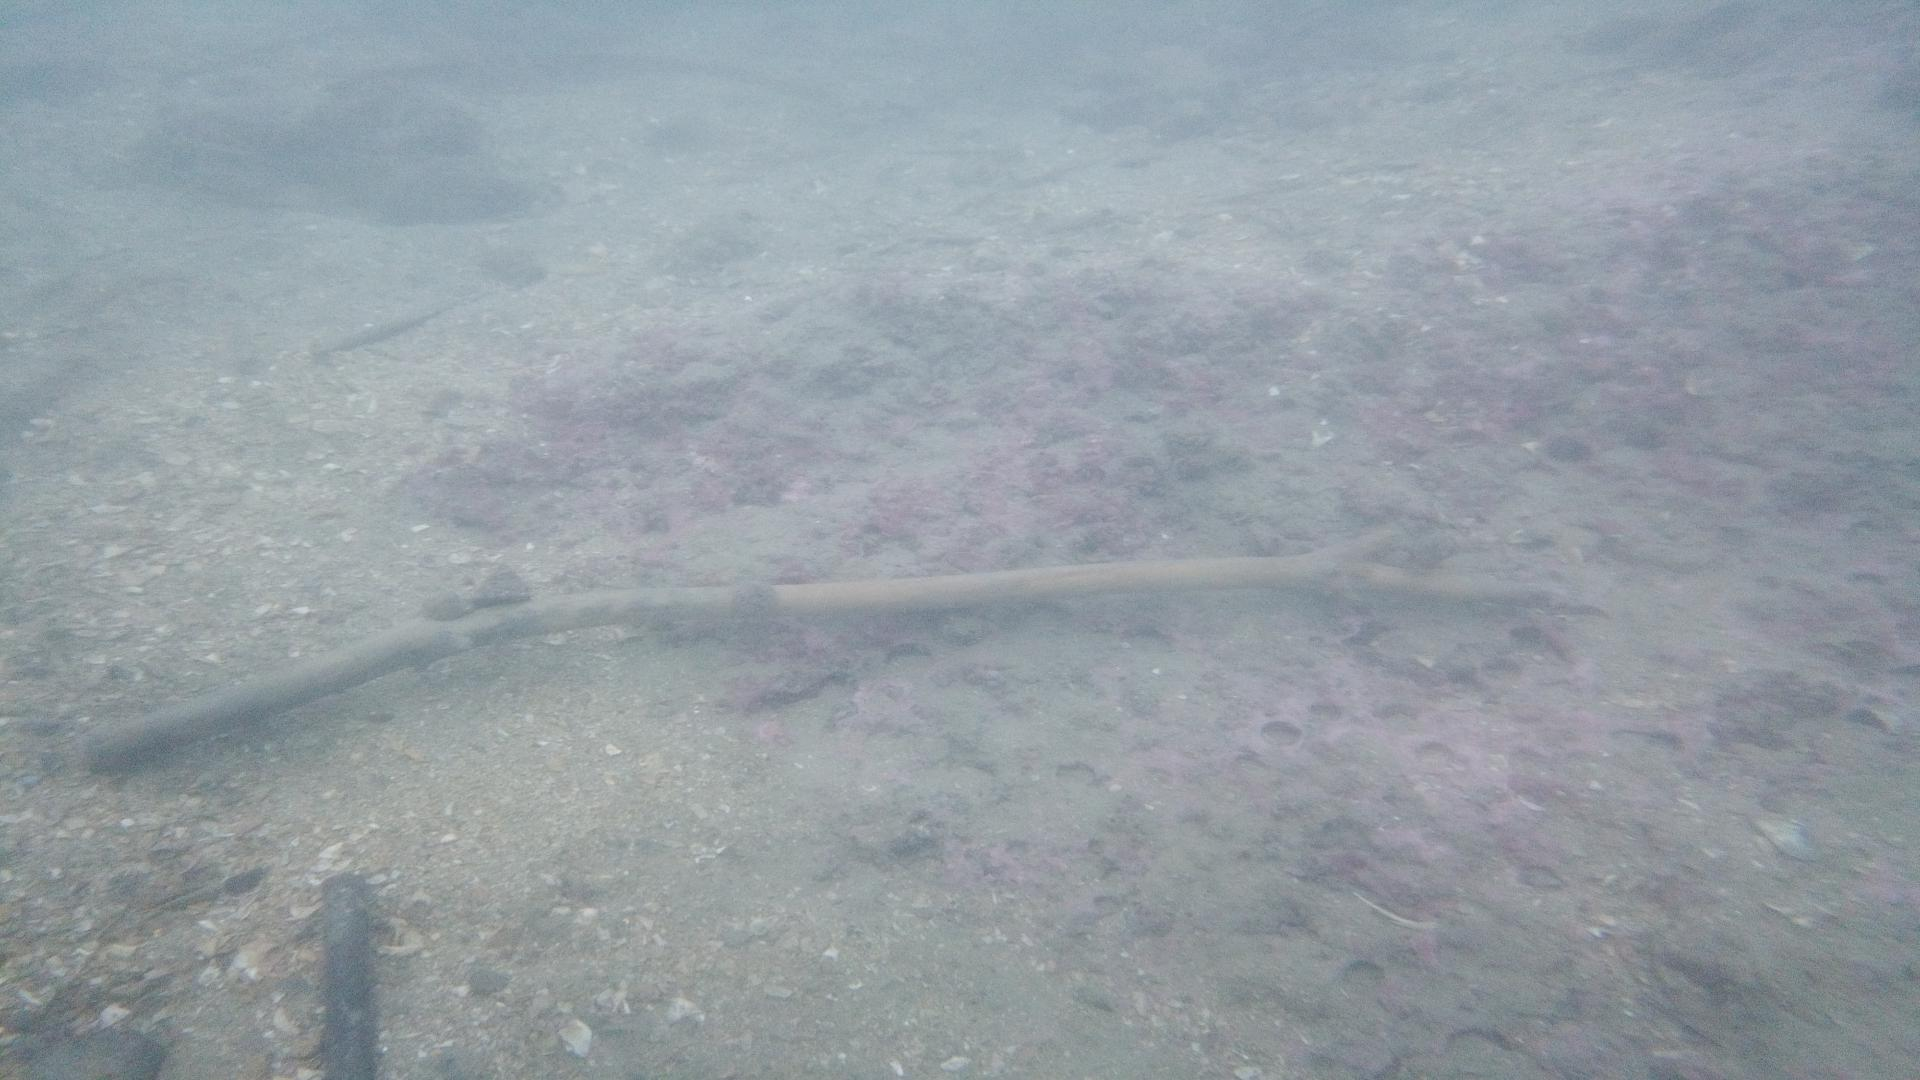wood: (80, 526, 1613, 771)
